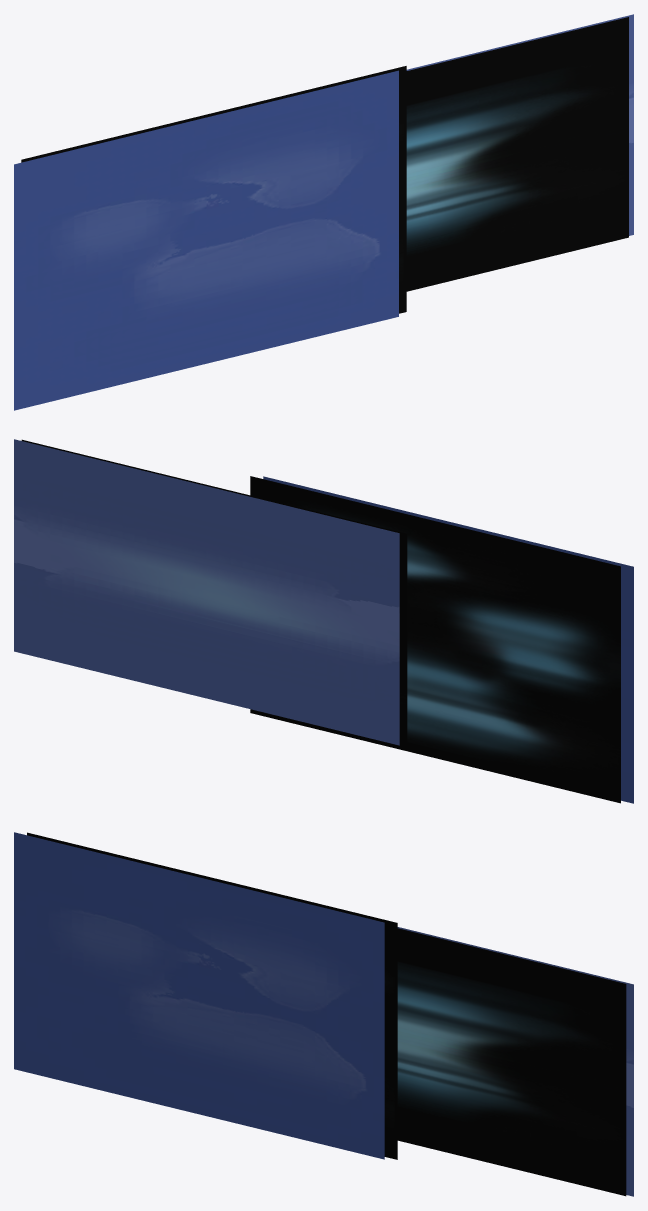
The model's file is pref_fxui_candyhotshop_banner_03.fbx.
3 renders of one model, top to bottom at view 1: azimuth 30°, elevation 25°; view 2: azimuth 150°, elevation 25°; view 3: azimuth 330°, elevation 25°, orthographic. The views are drawn at different scales.
Visible parts, largest first — view 1: noise_02_1, noise_01, noise_02, noise_01_1; view 2: noise_01_1, noise_02, noise_02_1, noise_01; view 3: noise_02_1, noise_01, noise_02, noise_01_1.
Boxes of the visible parts, left/top/right/bottom form: noise_02_1: left=14, top=70, right=398, bottom=410; noise_01: left=406, top=17, right=628, bottom=291; noise_02: left=21, top=66, right=406, bottom=313; noise_01_1: left=406, top=14, right=633, bottom=235; noise_01_1: left=14, top=439, right=399, bottom=745; noise_02: left=250, top=476, right=620, bottom=803; noise_02_1: left=263, top=476, right=633, bottom=803; noise_01: left=21, top=439, right=407, bottom=745; noise_02_1: left=14, top=832, right=384, bottom=1159; noise_01: left=397, top=928, right=626, bottom=1196; noise_02: left=27, top=832, right=397, bottom=1159; noise_01_1: left=397, top=927, right=633, bottom=1196.
Size of the model in its own units: 970 by 361 by 32.
4 materials, 4 textured.
